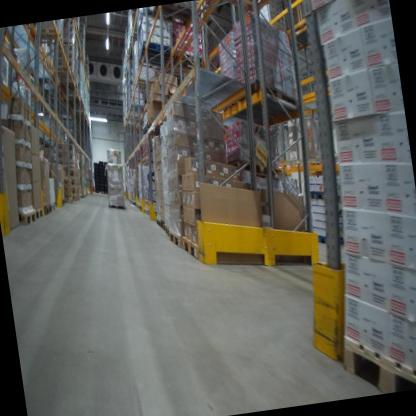pallet: (335, 324, 416, 398), (182, 226, 271, 272), (240, 67, 301, 119), (150, 0, 201, 31), (138, 35, 175, 65), (168, 45, 205, 75), (30, 21, 64, 45), (45, 61, 75, 84), (12, 208, 39, 228), (167, 226, 185, 252), (51, 33, 76, 50), (141, 202, 162, 218), (108, 198, 127, 211), (33, 205, 45, 221), (43, 198, 52, 218), (49, 199, 58, 215), (164, 222, 172, 238), (61, 198, 73, 207), (160, 217, 166, 232), (60, 198, 67, 207), (155, 218, 161, 227)
